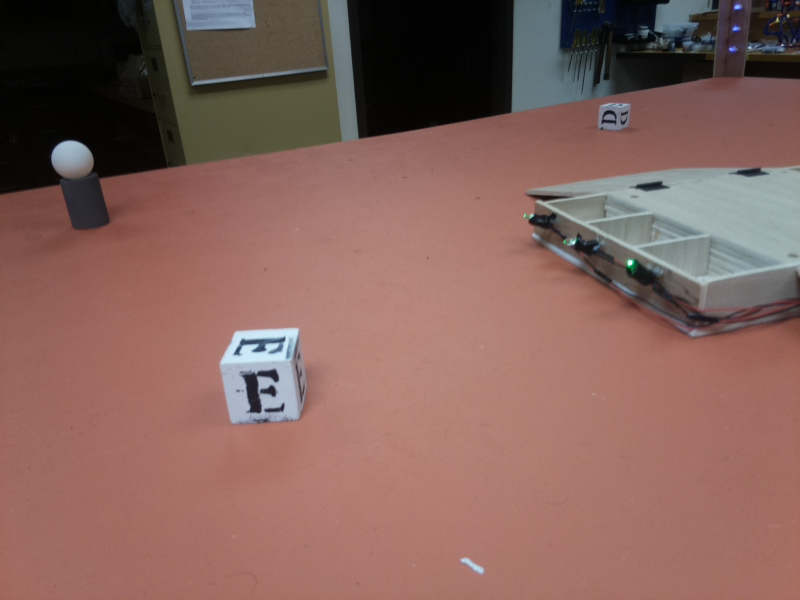blockD: (597, 99, 629, 133)
blockE: (218, 326, 308, 425)
obstacle: (46, 140, 114, 231)
side: (527, 198, 703, 338)
slope: (525, 156, 767, 193)
